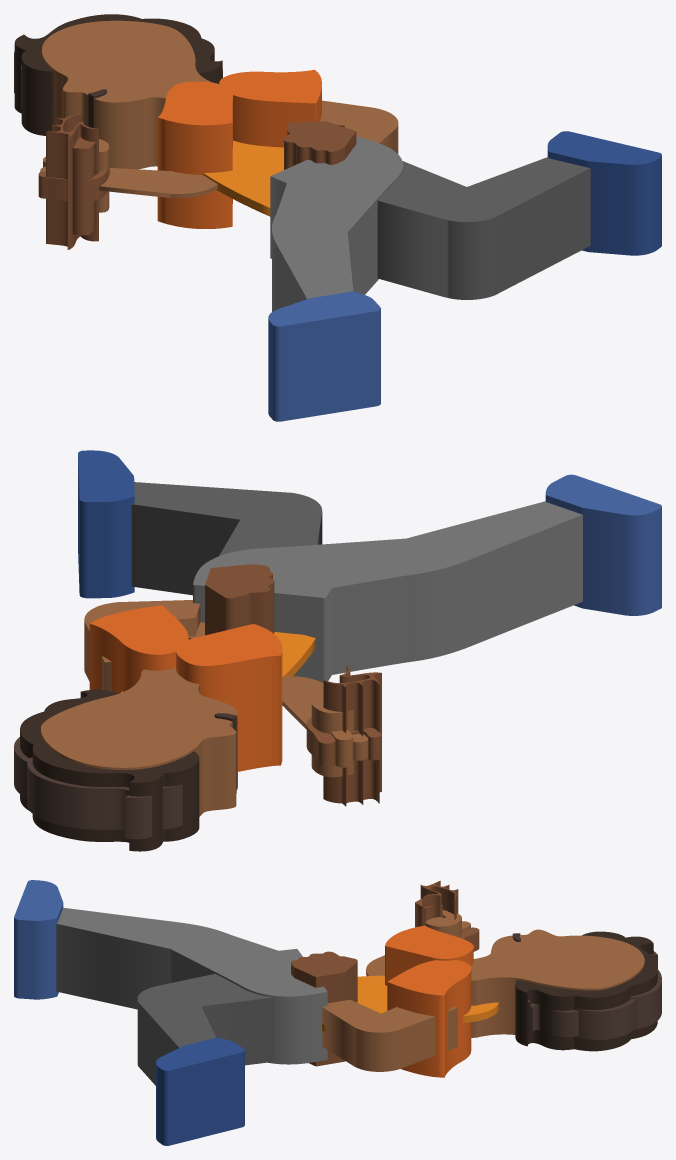
The model's file is emoji_u1f3c3_1f3fe.glb.
The picture shows the model from 3 angles, top to bottom: view 1: azimuth 30°, elevation 25°; view 2: azimuth 150°, elevation 25°; view 3: azimuth 270°, elevation 25°; orthographic projection. The views are drawn at different scales.
Parts seen in each view (by area): view 1: emoji_u1f3c3_1f3fe; view 2: emoji_u1f3c3_1f3fe; view 3: emoji_u1f3c3_1f3fe.
Part boxes in pixels (box(x1,y1,x2,y2)): emoji_u1f3c3_1f3fe: box(14, 14, 661, 421); emoji_u1f3c3_1f3fe: box(14, 450, 661, 851); emoji_u1f3c3_1f3fe: box(14, 880, 661, 1145).
Bounding box in the file's own units: 0.0227 × 0.0052 × 0.0329.
